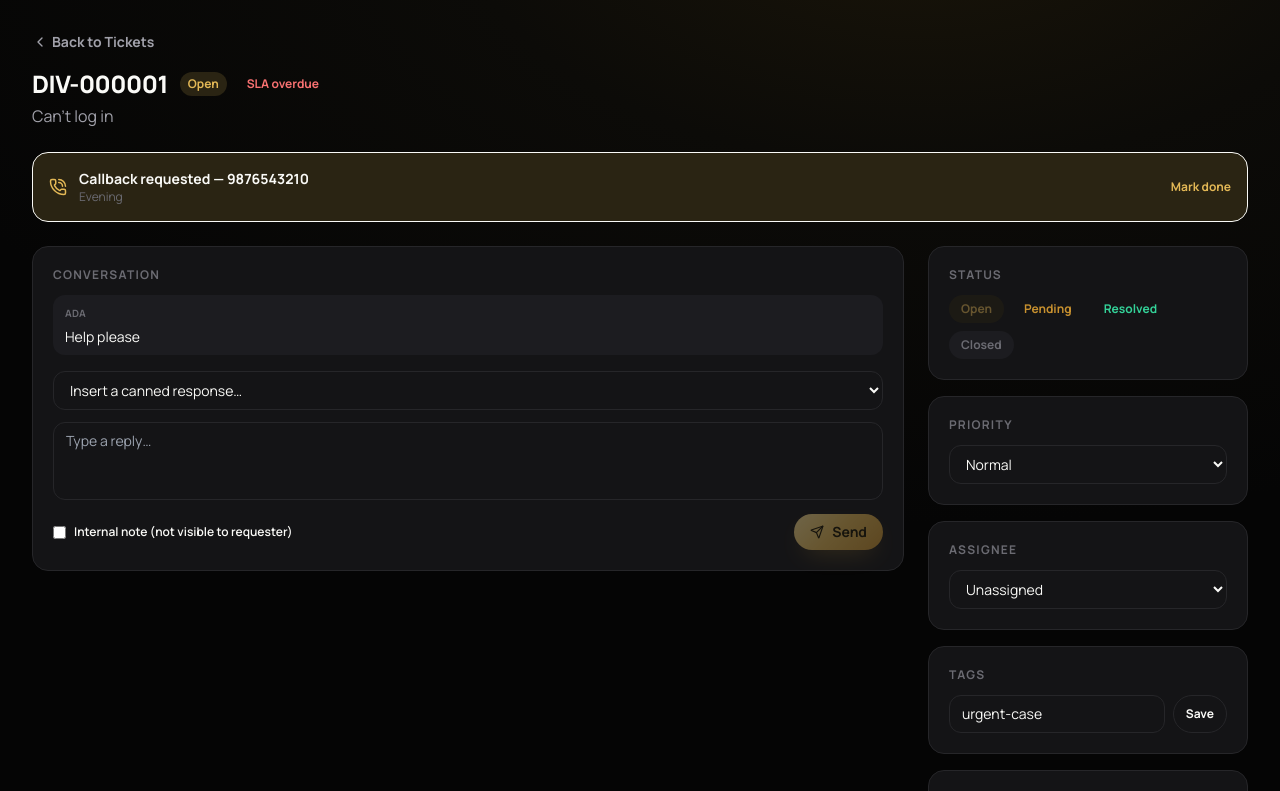
TicketDetail (admin) › inserts a canned response into the reply box
Select "Greeting" in the dropdown with test id "admin-ticket-detail-canned-select" at (468, 390), box [53,371,883,410]
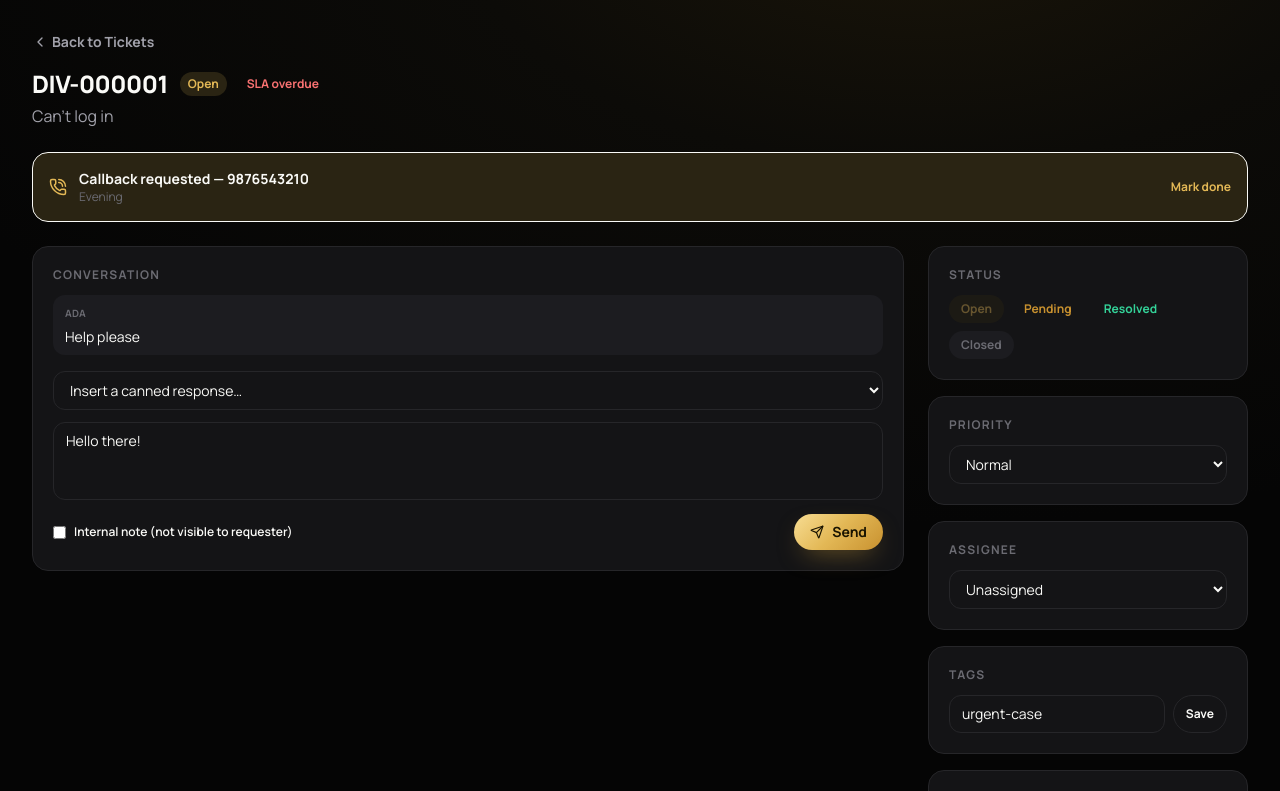
Check: the text box with test id "admin-ticket-detail-reply-input" holds "Hello there!", box [53,422,883,500]
